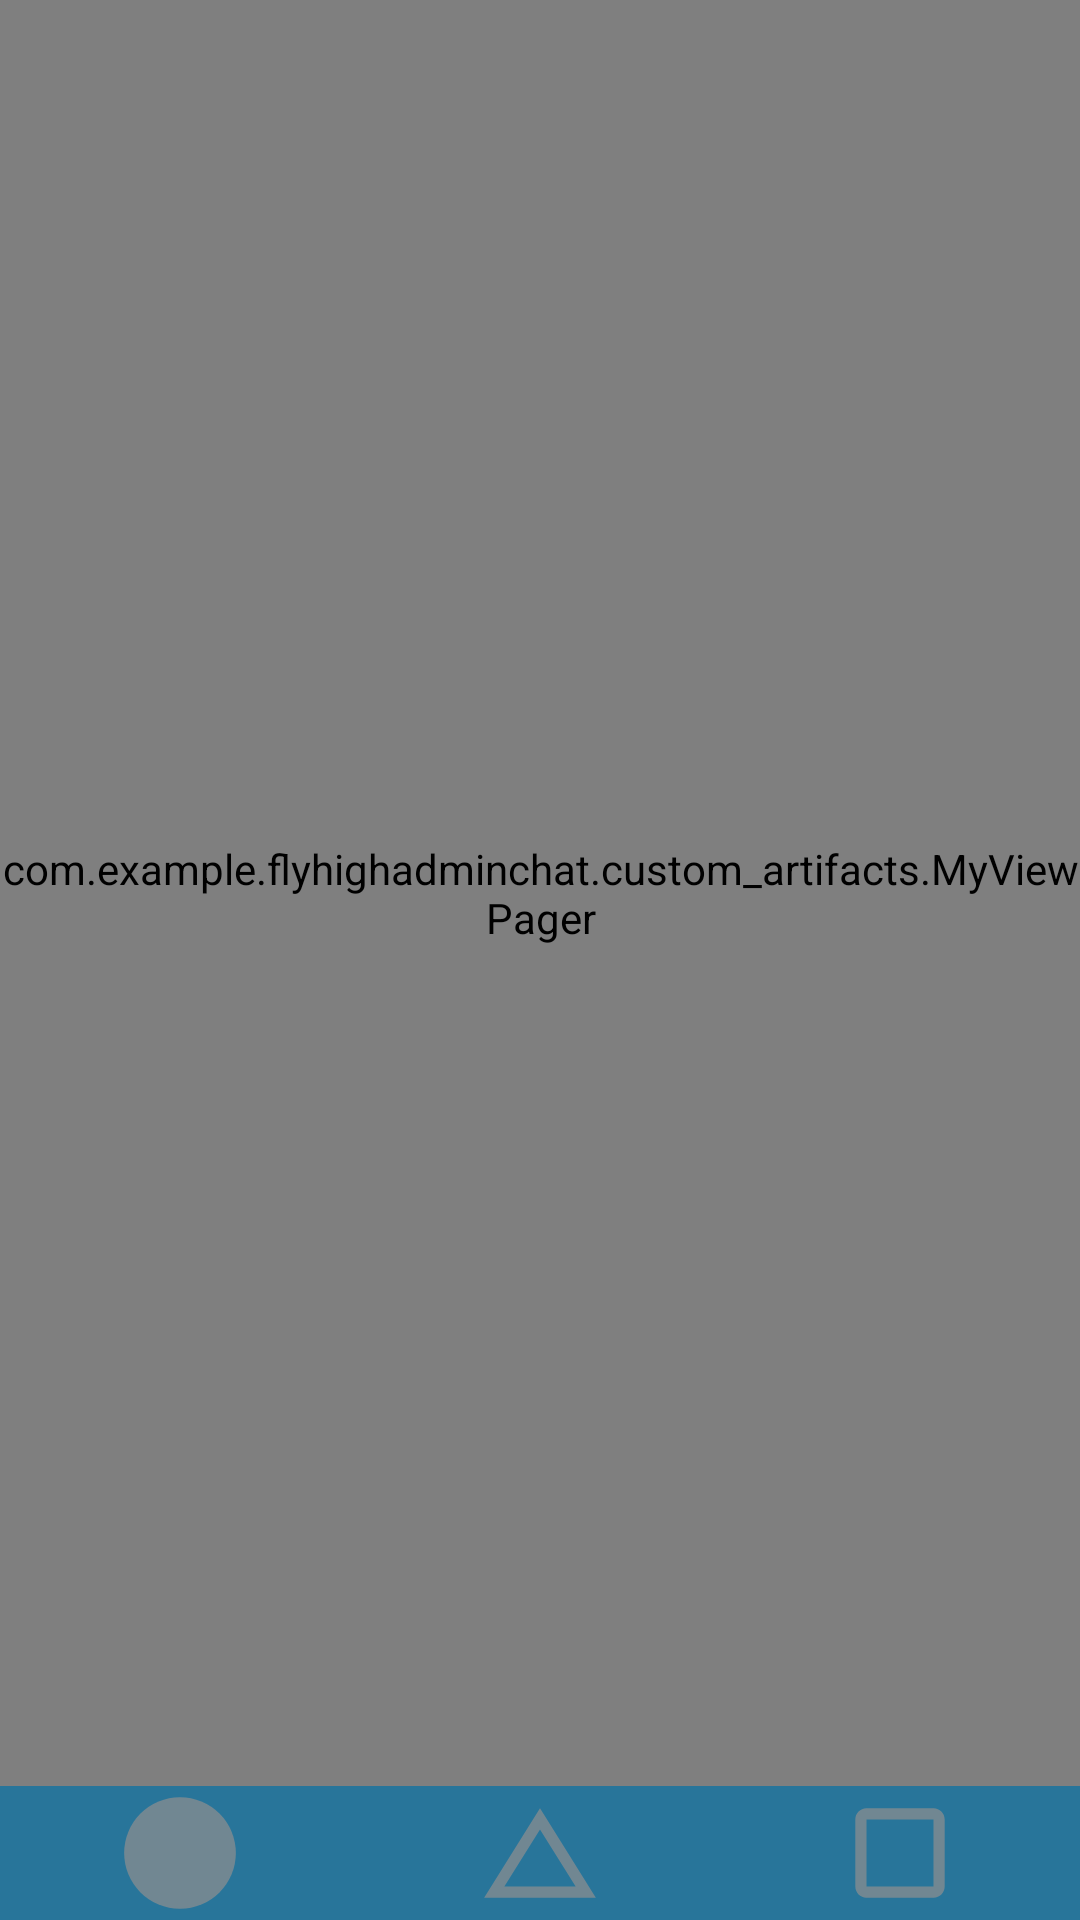

Icons on this 1080x1920 Android screen, each with the point to tap as (x=x, y=y):
circle: (x=180, y=1853)
square: (x=900, y=1853)
triangle: (x=540, y=1853)
